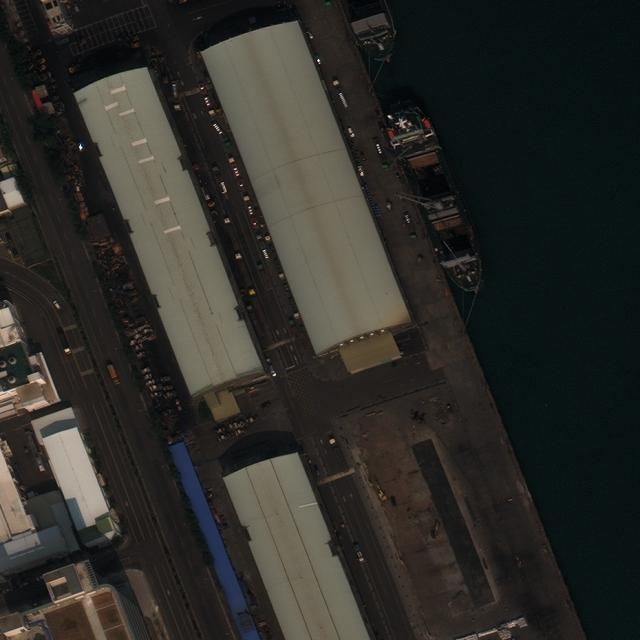Container Ship: (378, 98, 495, 300), (337, 3, 404, 62)
